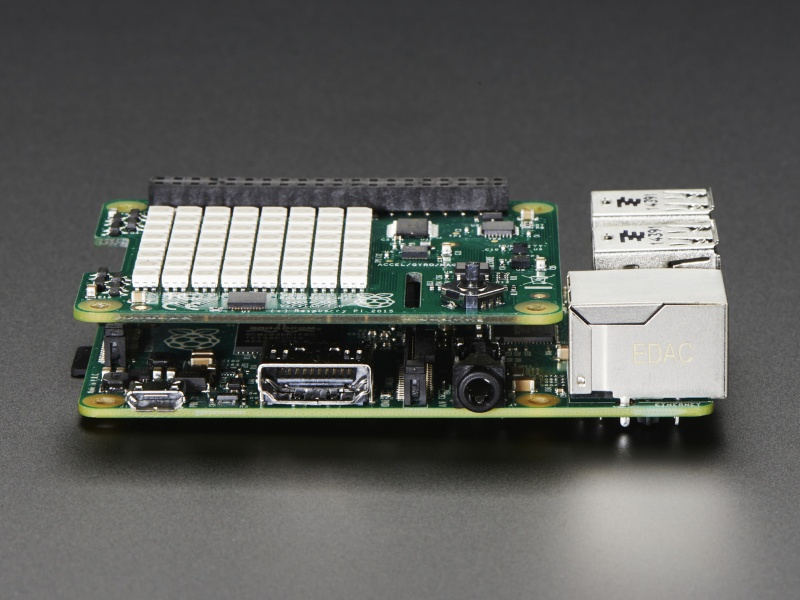raspberrypi: (53, 167, 738, 449)
